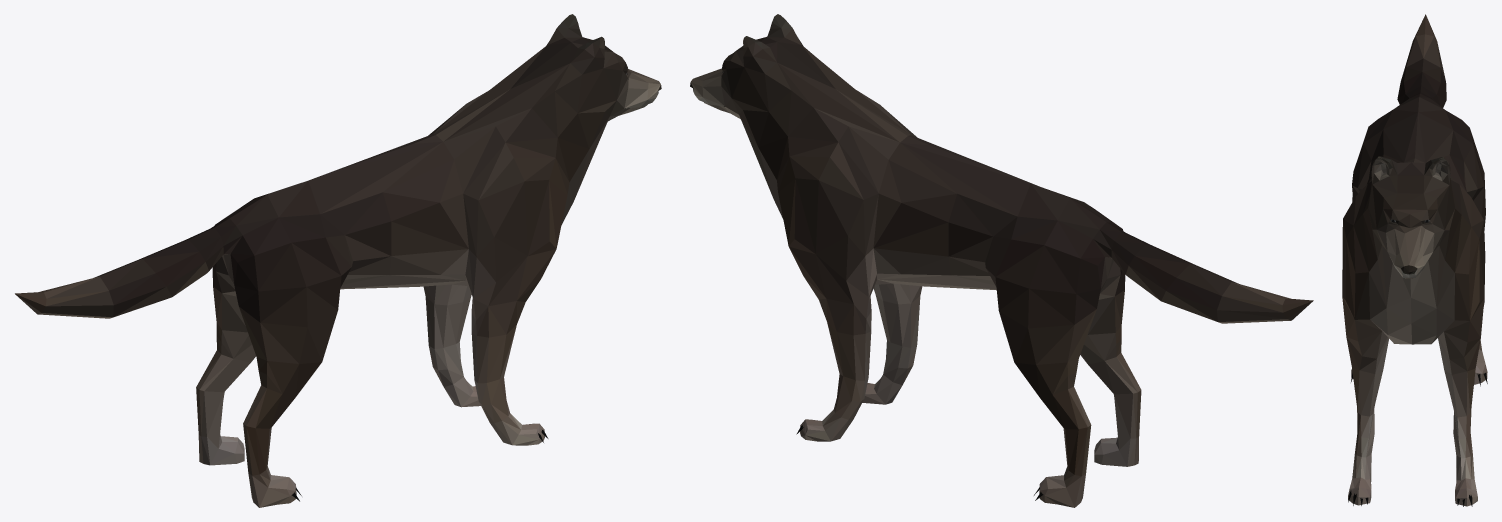
Rendered from wolf.glb.
3 views of the same model, side by side, from view 1: azimuth 30°, elevation 25°; view 2: azimuth 150°, elevation 25°; view 3: azimuth 270°, elevation 25° (orthographic). The views are drawn at different scales.
Parts seen in each view (by area): view 1: Object_9; view 2: Object_9; view 3: Object_9, Object_12.
Boxes of the visible parts, x1=… form: Object_9: x1=15, y1=14, x2=661, y2=507; Object_9: x1=690, y1=14, x2=1313, y2=507; Object_9: x1=1342, y1=14, x2=1487, y2=506; Object_12: x1=1348, y1=373, x2=1487, y2=506.
Size of the model in its own units: 2.02 by 1.14 by 0.3932.
